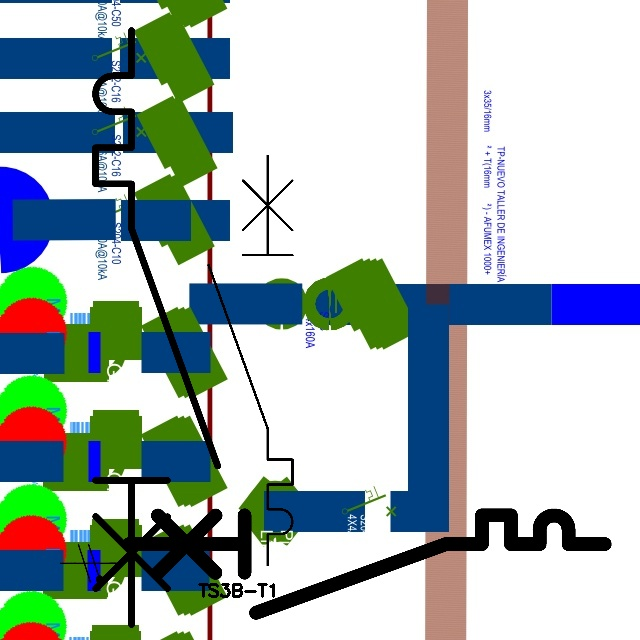interruptor_termomagnetico: (80, 15, 233, 640), (116, 503, 616, 625), (198, 145, 303, 576)
